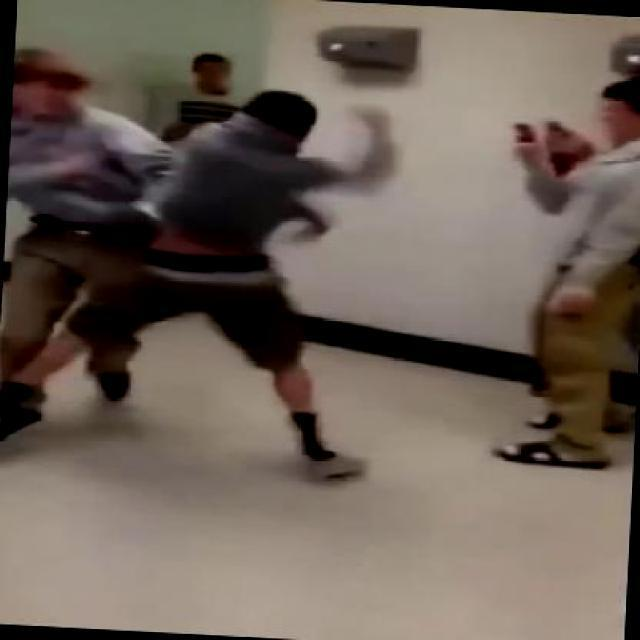fight: (0, 44, 405, 483)
non-fight: (479, 66, 638, 477)
